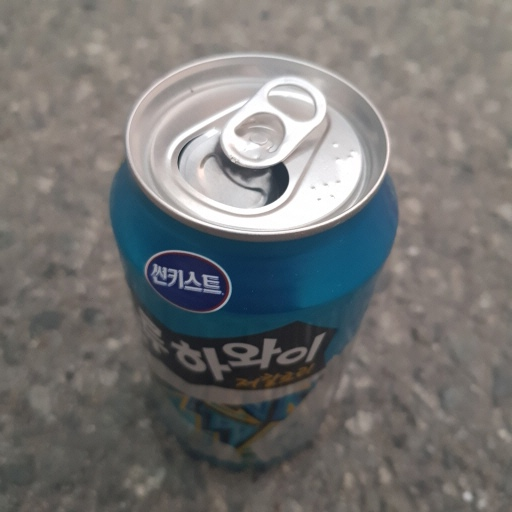Metal_0: (112, 49, 399, 464)
